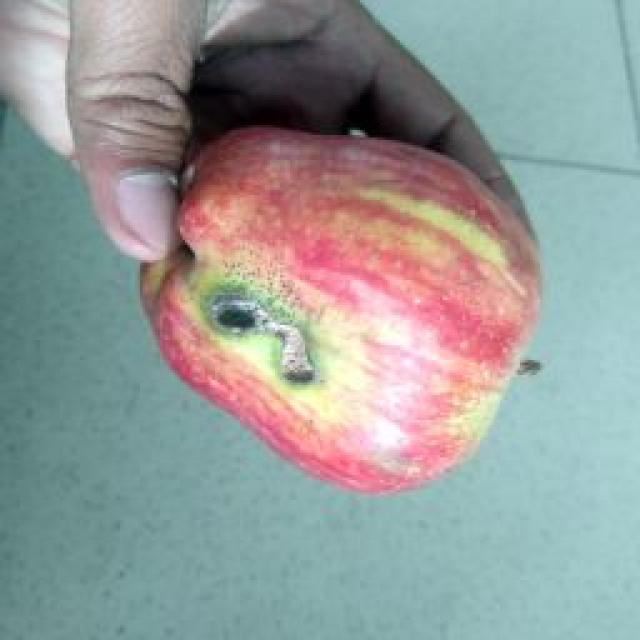Bad_Apple: (155, 130, 538, 491)
